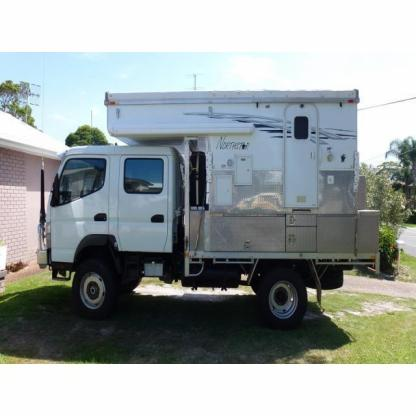truck: (38, 93, 381, 326)
